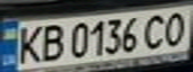0: (66, 20, 90, 58)
1: (87, 18, 109, 56)
3: (103, 16, 127, 55)
6: (121, 15, 145, 53)
B: (36, 21, 66, 62)
C: (139, 11, 172, 51)
K: (12, 22, 45, 65)
O: (157, 8, 193, 47)
